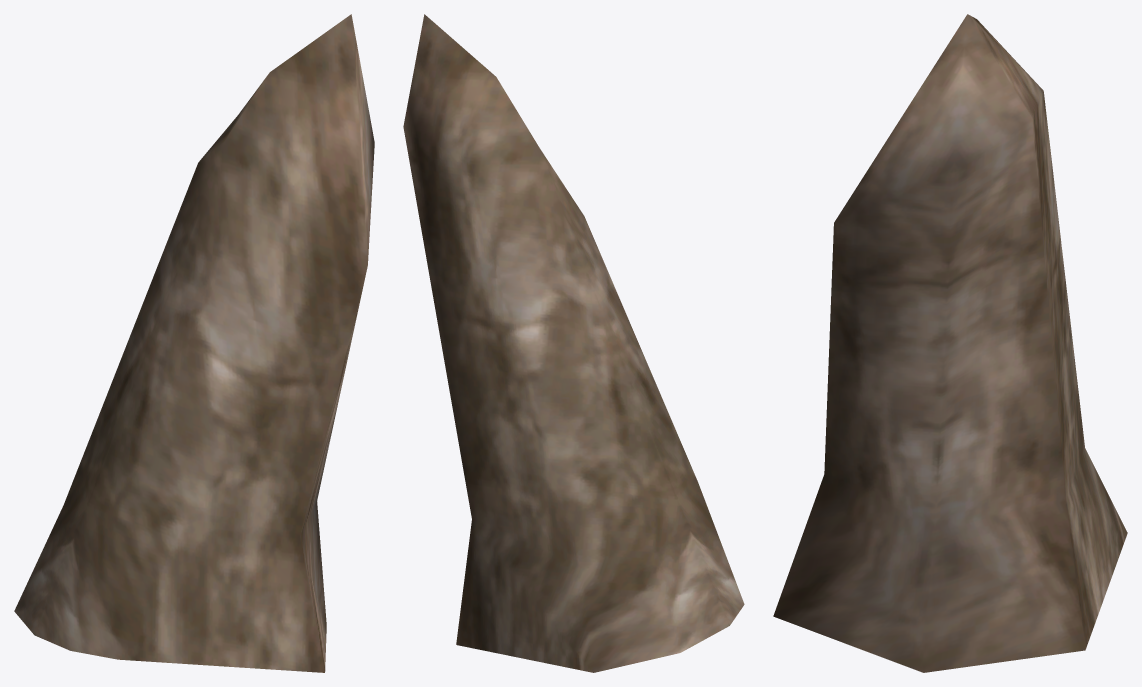
The model's file is OVERHILL_A_01_ROCK33.fbx.
The picture shows the model from 3 angles, left to right: view 1: azimuth 30°, elevation 25°; view 2: azimuth 150°, elevation 25°; view 3: azimuth 270°, elevation 25°; orthographic projection. The views are drawn at different scales.
Parts seen in each view (by area): view 1: OVERHILL_A_01_ROCK33; view 2: OVERHILL_A_01_ROCK33; view 3: OVERHILL_A_01_ROCK33.
Boxes of the visible parts, x1,y1,x2,y2 form: OVERHILL_A_01_ROCK33: (14, 14, 374, 672); OVERHILL_A_01_ROCK33: (403, 14, 744, 672); OVERHILL_A_01_ROCK33: (773, 14, 1127, 672).
Size of the model in its own units: 36448 by 61658 by 28975.
Materials: 1 (1 with a texture image).
